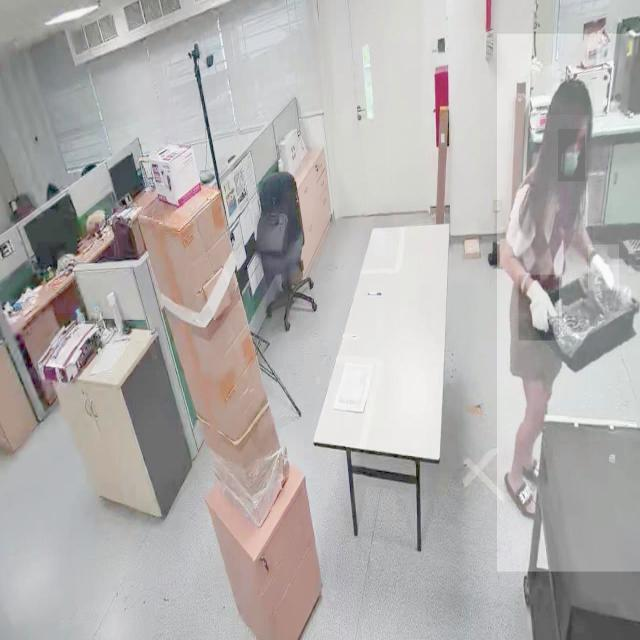face_mask: (558, 129, 585, 181)
hand_glove: (518, 275, 559, 341), (588, 244, 619, 290)
head_nohelmet: (548, 76, 594, 116)
person: (496, 34, 640, 572)
